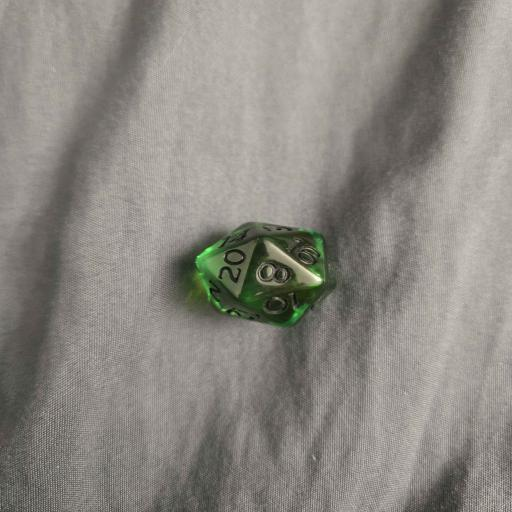twenty sided dice: (195, 221, 337, 327)
